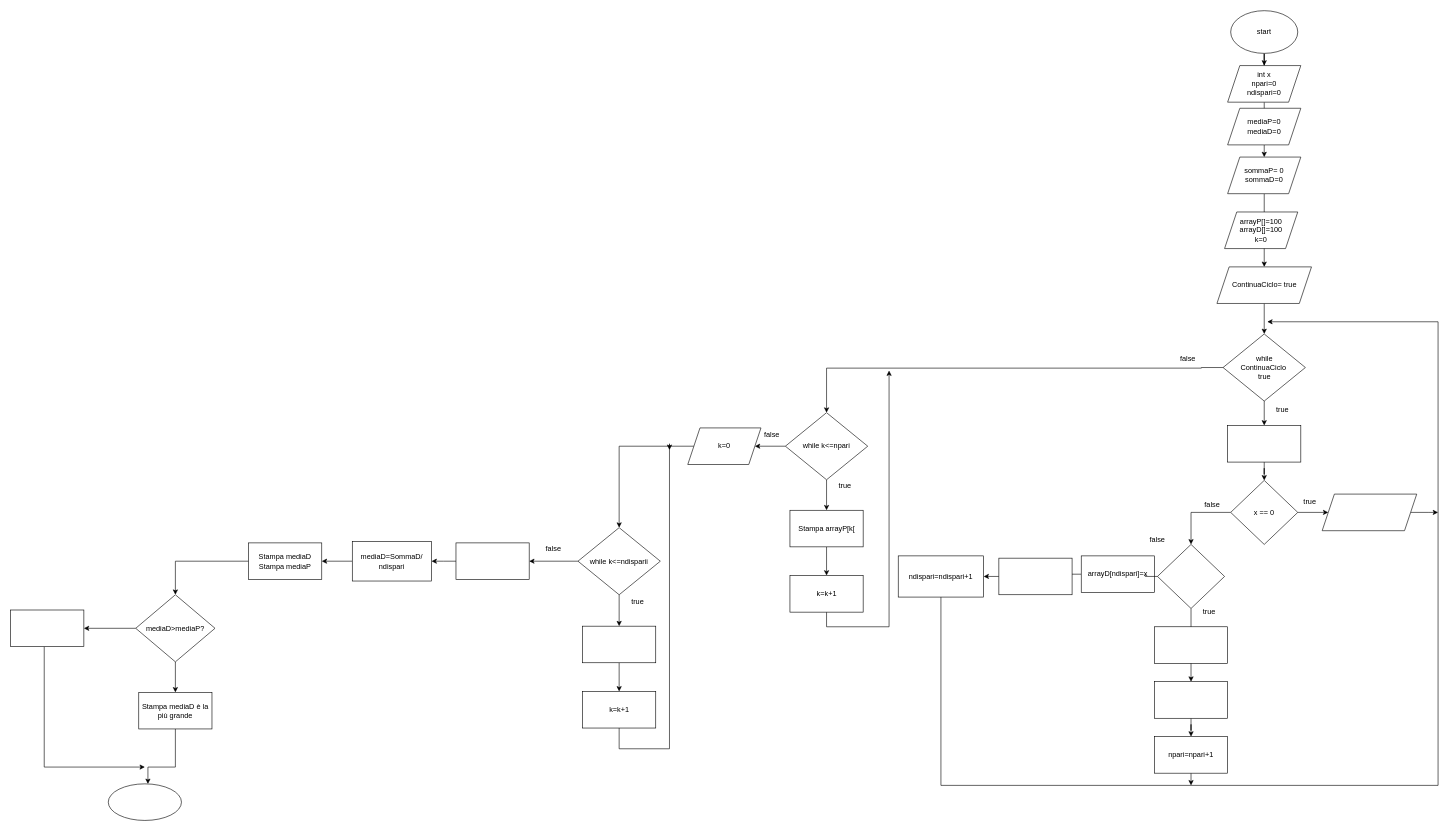
Some shapes in this 1454 by 831 pixel diagram are drawn without their labels. Each missing label, with the centre of its shape:
arrayP[npari]=x: point (1191, 644)
ContinuaCiclo= false: point (1369, 512)
E' pari?: point (1191, 576)
end: point (144, 801)
inserisco x: point (1264, 443)
mediaP= SommaP/npari: point (492, 561)
sommaD= sommaD+x: point (1035, 576)
sommaP= SommaP+x: point (1191, 699)
Stampa arrayD[k[: point (619, 644)
Stampa mediaP è la più grande: point (47, 628)
